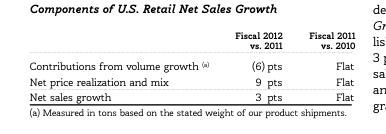table: (28, 28, 354, 103)
table column: (28, 28, 221, 103), (221, 28, 295, 103), (295, 28, 354, 103)
table column header: (28, 28, 354, 55)
table row: (28, 28, 354, 55), (28, 55, 354, 73), (28, 73, 354, 88), (28, 88, 354, 103)
